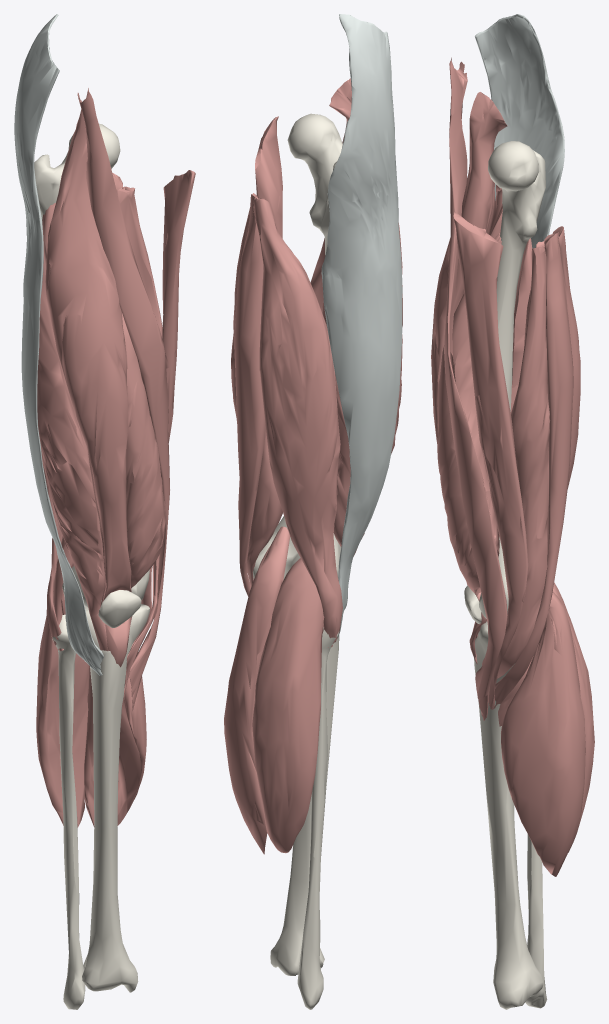
Rendered from knee.glb.
3 views of the same model, side by side, from view 1: azimuth 30°, elevation 25°; view 2: azimuth 150°, elevation 25°; view 3: azimuth 270°, elevation 25° (orthographic). The views are drawn at different scales.
Parts seen in each view (by area): view 1: rectus_femoris, iliotibial_tract, vastus_lateralis, sartorius, tibia, vastus_medialis, gastrocnemius_lateral, fibula, gracilis, gastrocnemius_medial, femur, semimembranosus (+3 smaller); view 2: iliotibial_tract, biceps_femoris_long, gastrocnemius_lateral, gastrocnemius_medial, semitendinosus, fibula, tibia, femur, semimembranosus, gracilis, vastus_lateralis, rectus_femoris (+1 smaller); view 3: gastrocnemius_medial, gracilis, sartorius, semimembranosus, iliotibial_tract, tibia, semitendinosus, femur, vastus_medialis, rectus_femoris, fibula, vastus_lateralis (+3 smaller).
Part boxes in pixels (x1,y1,x2,y2): rectus_femoris: [45, 109, 132, 667]; iliotibial_tract: [14, 14, 103, 675]; vastus_lateralis: [37, 203, 108, 651]; sartorius: [77, 88, 169, 711]; tibia: [65, 604, 149, 992]; vastus_medialis: [122, 313, 166, 623]; gastrocnemius_lateral: [36, 564, 89, 827]; fibula: [52, 614, 85, 1009]; gracilis: [123, 170, 195, 700]; gastrocnemius_medial: [84, 666, 146, 827]; femur: [34, 123, 149, 608]; semimembranosus: [116, 186, 162, 647]; iliotibial_tract: [321, 14, 402, 638]; biceps_femoris_long: [253, 199, 342, 643]; gastrocnemius_lateral: [252, 558, 324, 853]; gastrocnemius_medial: [224, 526, 290, 854]; semitendinosus: [234, 194, 265, 596]; fibula: [297, 627, 339, 1009]; tibia: [270, 635, 339, 975]; femur: [253, 113, 342, 579]; semimembranosus: [231, 193, 282, 586]; gracilis: [255, 116, 282, 238]; vastus_lateralis: [322, 301, 402, 556]; rectus_femoris: [329, 78, 402, 326]; gastrocnemius_medial: [501, 591, 585, 876]; gracilis: [453, 211, 528, 709]; sartorius: [444, 57, 507, 720]; semimembranosus: [497, 241, 549, 678]; iliotibial_tract: [475, 14, 564, 248]; tibia: [474, 621, 543, 1009]; semitendinosus: [494, 232, 573, 708]; femur: [479, 141, 545, 618]; vastus_medialis: [437, 233, 501, 635]; rectus_femoris: [431, 92, 507, 664]; fibula: [525, 834, 547, 1008]; vastus_lateralis: [489, 185, 532, 387].
Size of the model in its own units: 0.1504 by 0.9704 by 0.1467.
